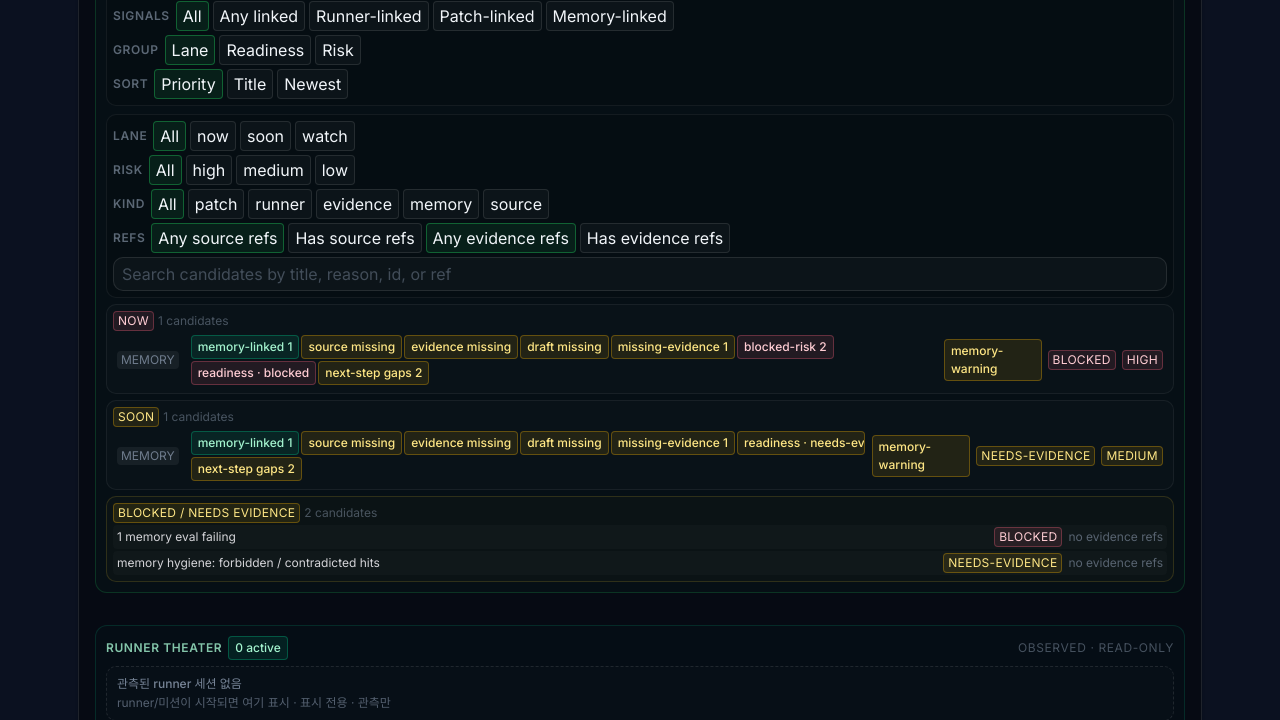
E18 — WorkItem Candidate learning/memory signal UI › shows learning/memory signals in the candidate detail drawer as read-only
(page scrolled)
Click the button with test id "wic-row-wic-memory-eval-fail". click: (640, 360)
box: [113,333,1167,387]
(page scrolled)
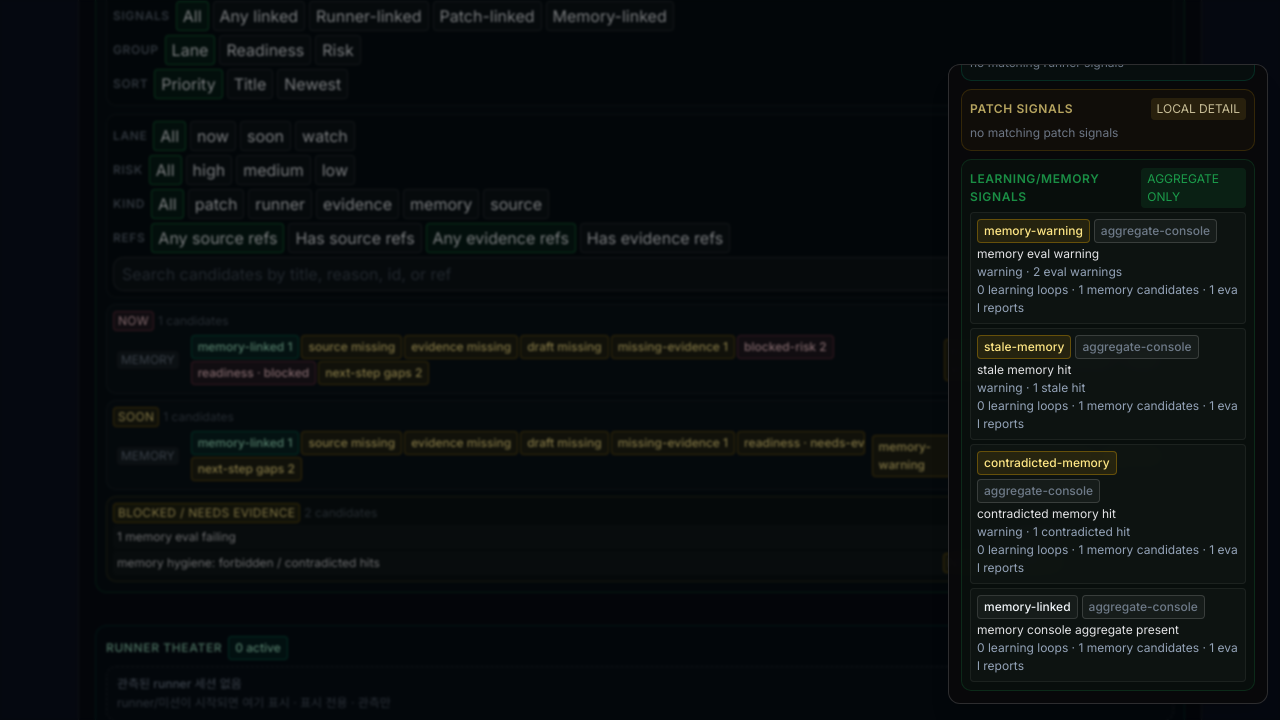
Expected: the element with test id "wic-learning-memory-signals-section" shows "Learning/Memory Signals", [970,171,1099,204]
Expected: the element with test id "wic-learning-memory-signals-section" shows "memory-warning", [984,223,1083,238]
Expected: the element with test id "wic-learning-memory-signals-section" shows "stale-memory", [984,339,1064,354]
